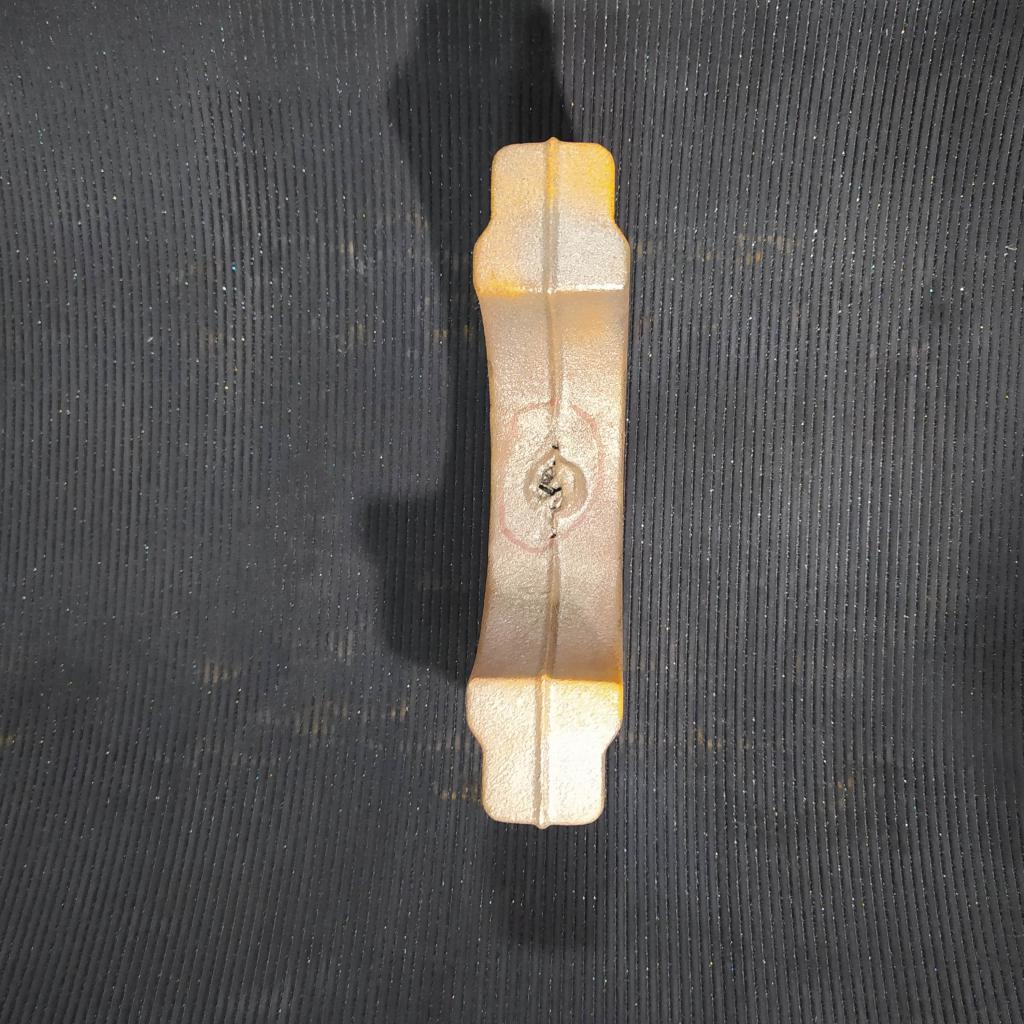buraco: (537, 465, 565, 504), (550, 442, 564, 455), (549, 532, 560, 542)
